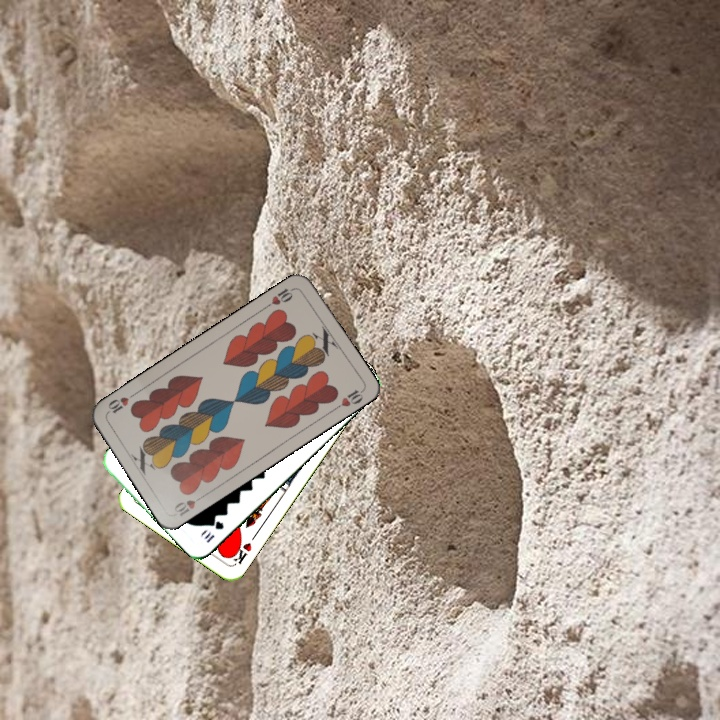G10: (200, 517, 226, 545)
H10: (170, 490, 207, 519), (261, 284, 297, 311)
HK: (226, 537, 254, 567)
